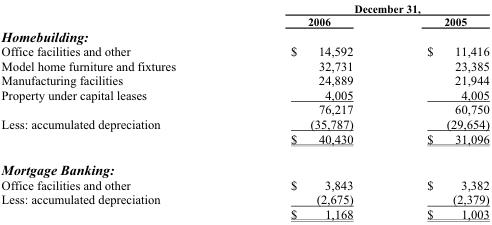table: (0, 0, 488, 221)
table column: (0, 0, 232, 221), (232, 0, 389, 221), (389, 0, 488, 221)
table column header: (0, 0, 488, 27)
table projected row header: (0, 153, 488, 177), (0, 27, 488, 43)
table row: (0, 153, 488, 177), (0, 130, 488, 153), (0, 27, 488, 43), (0, 43, 488, 58), (0, 72, 488, 87), (0, 101, 488, 116), (0, 191, 488, 206), (0, 206, 488, 221), (0, 0, 488, 14), (0, 58, 488, 72), (0, 87, 488, 101), (0, 116, 488, 130), (0, 177, 488, 191), (0, 14, 488, 27)
table spanning cell: (232, 0, 488, 14)
